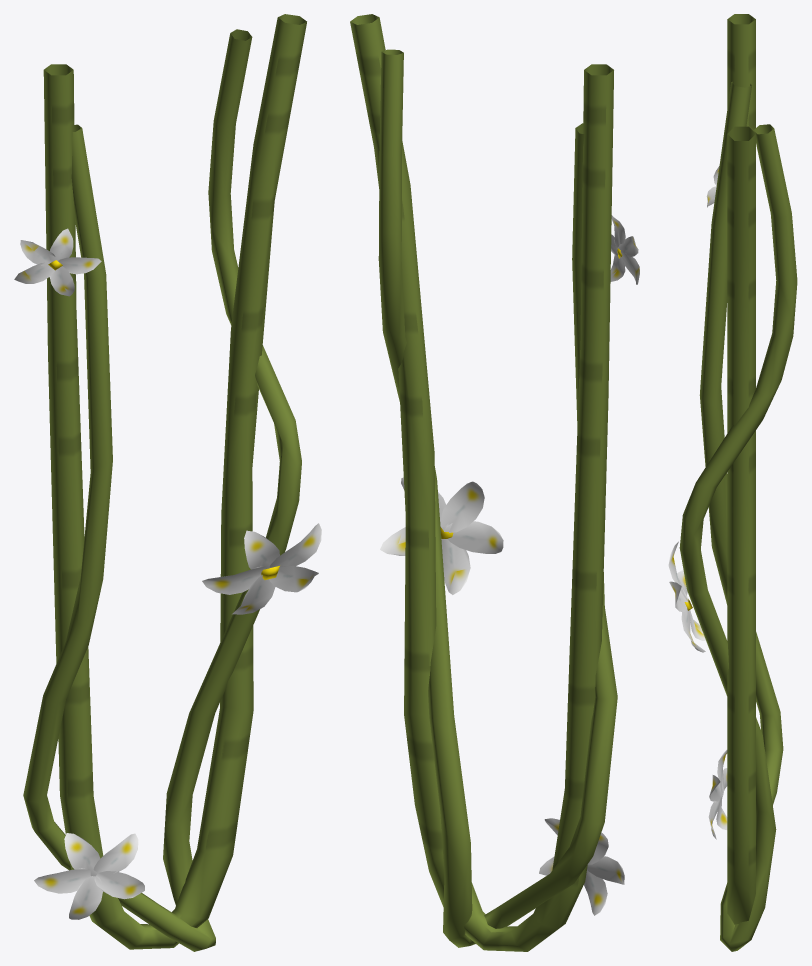
The model's file is Vine03.fbx.
3 renders of one model, left to right at view 1: azimuth 30°, elevation 25°; view 2: azimuth 150°, elevation 25°; view 3: azimuth 270°, elevation 25°, orthographic. The views are drawn at different scales.
Visible parts, largest first — view 1: Vine03_LOD0; view 2: Vine03_LOD0; view 3: Vine03_LOD0.
Part boxes in pixels (bbox=[...]): Vine03_LOD0: bbox=[14, 14, 321, 951]; Vine03_LOD0: bbox=[350, 14, 639, 951]; Vine03_LOD0: bbox=[668, 14, 797, 951].
Size of what is drawn, in the model's own units: 83.58 by 254 by 34.36.
Materials: 1 (1 with a texture image).
